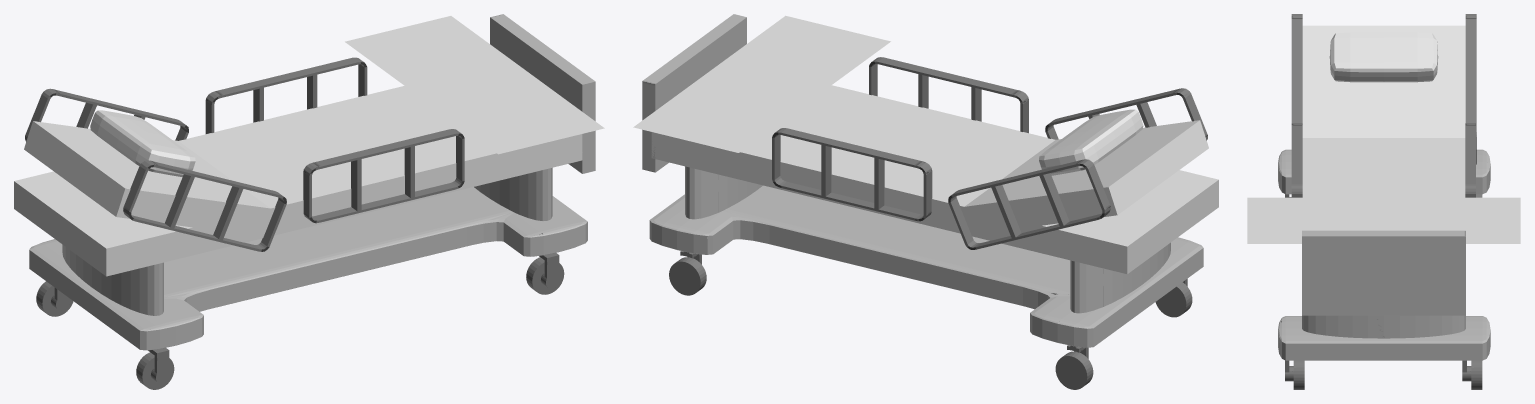
File: Hospital_Bed.fbx
The picture shows the model from 3 angles, left to right: view 1: azimuth 30°, elevation 25°; view 2: azimuth 150°, elevation 25°; view 3: azimuth 270°, elevation 25°; orthographic projection. The views are drawn at different scales.
Parts seen in each view (by area): view 1: Cube, Cube.007, Plane, Cube.001, Cube.003, Cube.005, Cube.008, Cylinder, Cube.004, Cylinder.001, Cube.006, Cylinder.004 (+2 smaller); view 2: Cube, Cube.007, Plane, Cube.001, Cube.004, Cube.006, Cube.008, Cylinder, Cube.003, Cylinder.001, Cube.005, Cylinder.005 (+2 smaller); view 3: Cube, Cube.001, Plane, Cube.007, Cube.008, Cylinder.001, Cube.006, Cube.005, Cube.003, Cube.004, Cylinder.002, Cylinder.003.
Part boxes in pixels (left/top/right/bottom): Cube: left=14, top=86, right=582, bottom=276; Cube.007: left=29, top=187, right=587, bottom=350; Plane: left=345, top=16, right=604, bottom=154; Cube.001: left=490, top=14, right=595, bottom=173; Cube.003: left=303, top=129, right=464, bottom=223; Cube.005: left=123, top=160, right=286, bottom=251; Cube.008: left=90, top=110, right=195, bottom=177; Cylinder: left=62, top=244, right=163, bottom=315; Cube.004: left=205, top=57, right=367, bottom=133; Cylinder.001: left=474, top=167, right=552, bottom=220; Cube.006: left=25, top=88, right=188, bottom=141; Cylinder.004: left=136, top=347, right=174, bottom=389; Cube: left=651, top=85, right=1218, bottom=274; Cube.007: left=649, top=185, right=1203, bottom=347; Plane: left=633, top=15, right=890, bottom=152; Cube.001: left=642, top=14, right=746, bottom=172; Cube.004: left=772, top=128, right=932, bottom=221; Cube.006: left=948, top=159, right=1110, bottom=249; Cube.008: left=1039, top=109, right=1143, bottom=175; Cylinder: left=1070, top=242, right=1170, bottom=313; Cube.003: left=869, top=57, right=1028, bottom=133; Cylinder.001: left=685, top=166, right=762, bottom=219; Cube.005: left=1045, top=88, right=1207, bottom=140; Cylinder.005: left=1055, top=345, right=1093, bottom=389; Cube: left=1302, top=25, right=1465, bottom=197; Cube.001: left=1302, top=230, right=1465, bottom=315; Plane: left=1247, top=197, right=1520, bottom=243; Cube.007: left=1278, top=149, right=1490, bottom=360; Cube.008: left=1329, top=32, right=1438, bottom=82; Cylinder.001: left=1302, top=315, right=1465, bottom=338; Cube.006: left=1465, top=14, right=1476, bottom=164; Cube.005: left=1291, top=14, right=1302, bottom=123; Cube.003: left=1291, top=123, right=1302, bottom=197; Cube.004: left=1465, top=123, right=1475, bottom=197; Cylinder.002: left=1462, top=360, right=1482, bottom=389; Cylinder.003: left=1285, top=360, right=1304, bottom=389.
Size of the model in its own units: 459 by 203 by 250.
